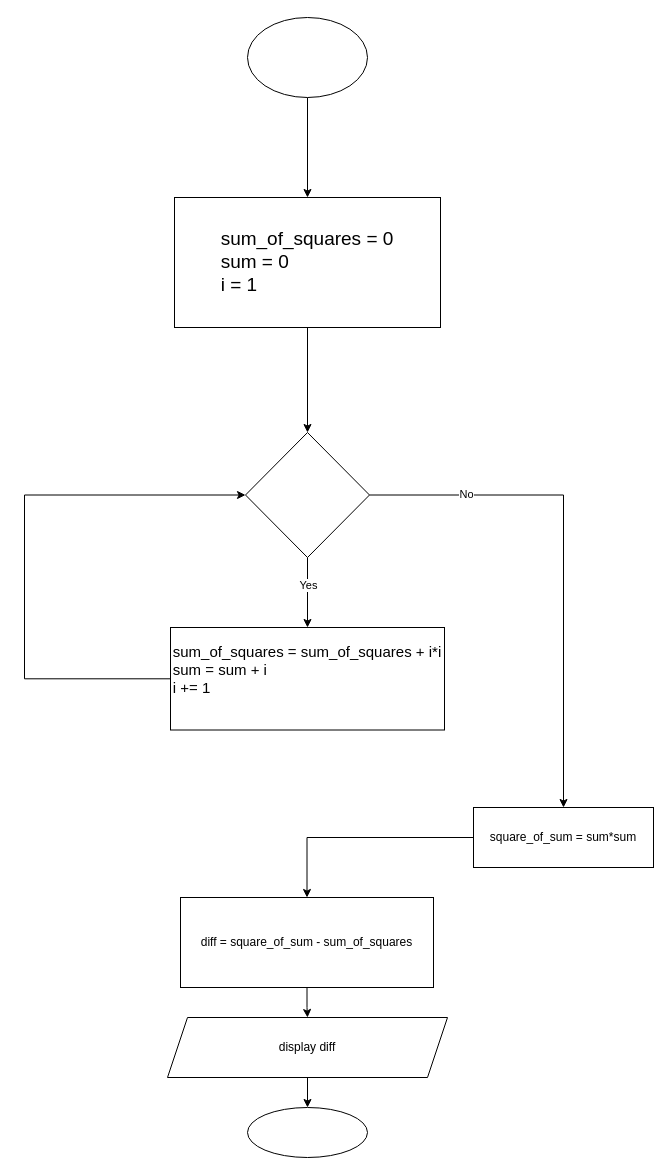
Image size: 671x1175. Some labels were removed from this diagram. The shapes that lost their labels are listed below. From the top down, each one's centre as x and y in pixels, then its label:
At point (307, 57): "Start".
At point (307, 495): "is i <= 100".
At point (307, 1132): "stop".
